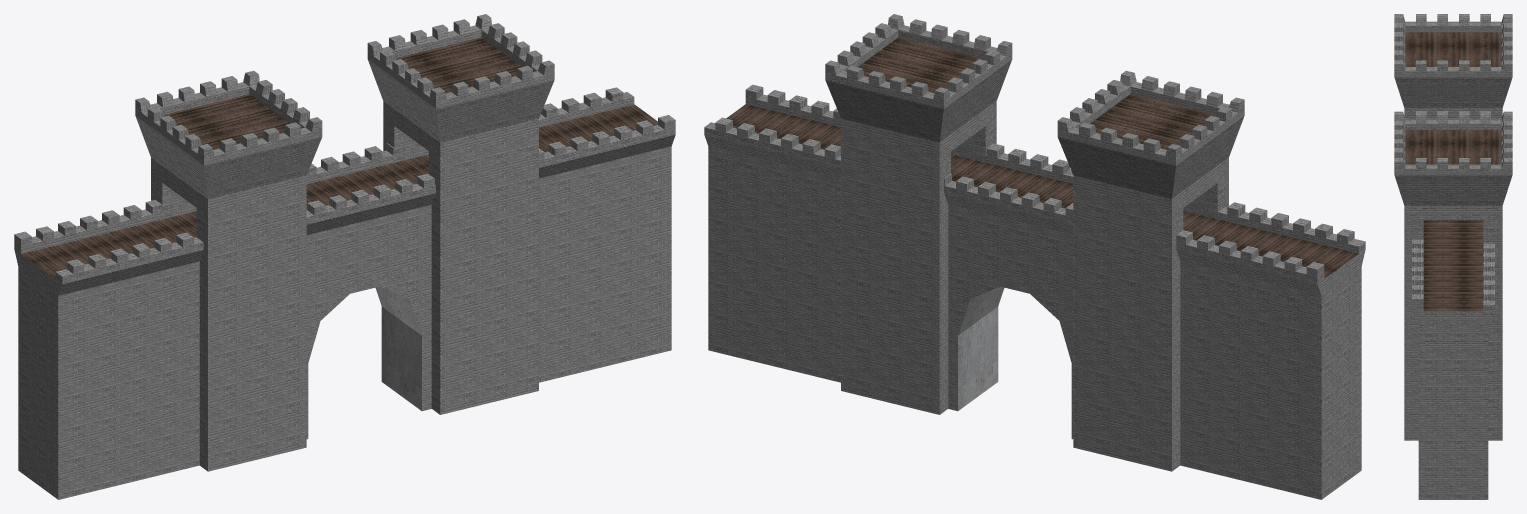
Rendered from WallGate.fbx.
3 views of the same model, side by side, from view 1: azimuth 30°, elevation 25°; view 2: azimuth 150°, elevation 25°; view 3: azimuth 270°, elevation 25° (orthographic). The views are drawn at different scales.
Parts seen in each view (by area): view 1: WallGate; view 2: WallGate; view 3: WallGate.
Part boxes in pixels (x1,y1,x2,y2): WallGate: (14,14,675,499); WallGate: (704,14,1365,499); WallGate: (1394,14,1512,499).
Bounding box in the file's own units: 4400 × 2253 × 851.
